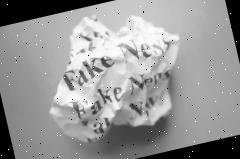paper: (29, 0, 196, 149)
